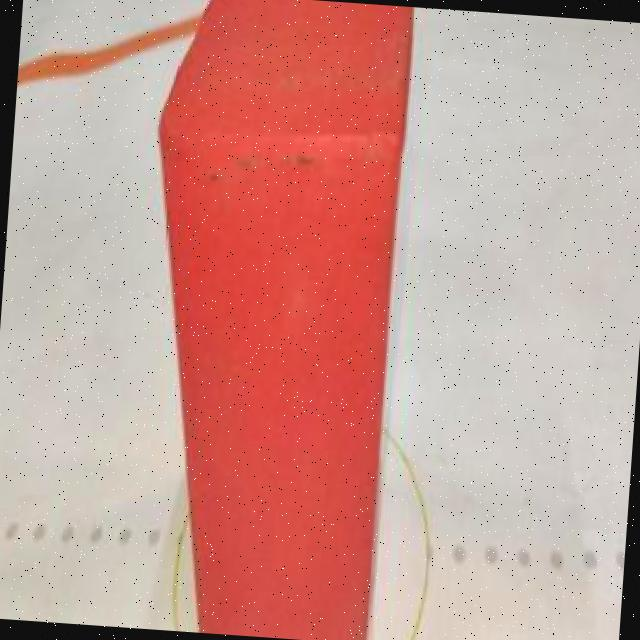redbox: (124, 0, 415, 640)
